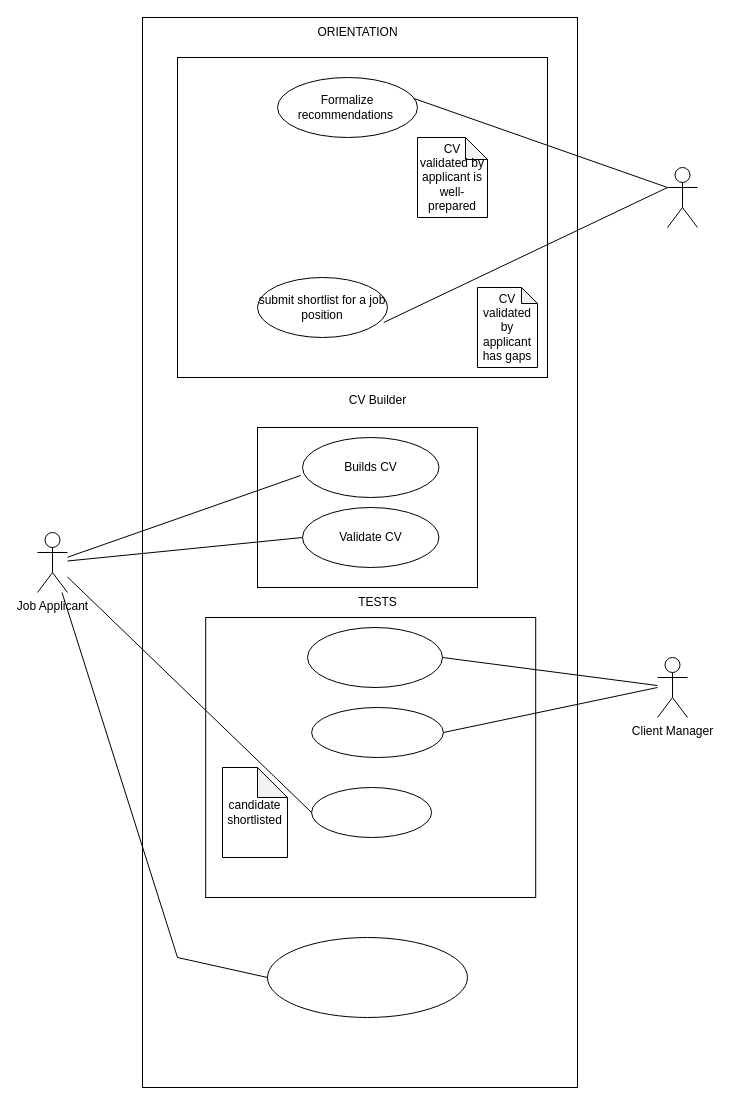
The diagram is 736 pixels wide and 1105 high, and some of its shapes have lost their labels. The centre of each missing label's shape, as x and y in pixels:
"announce successful and useccessful candidates" belongs at [377,732].
"Carrer Expert" belongs at [682,197].
"Creates automated Tests" belongs at [374,657].
"Invited to pass the test" belongs at [371,812].
"Send Job Announcements matching user preferences" belongs at [367,977].
